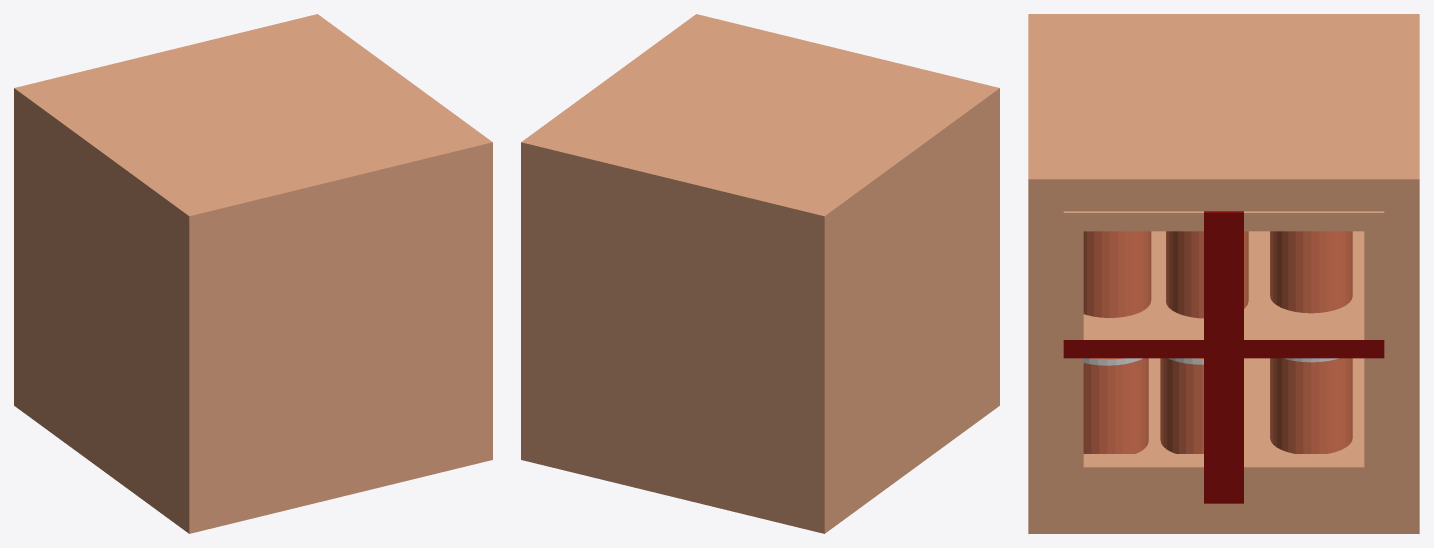
Rendered from Cabinet.fbx.
3 views of the same model, side by side, from view 1: azimuth 30°, elevation 25°; view 2: azimuth 150°, elevation 25°; view 3: azimuth 270°, elevation 25° (orthographic). The views are drawn at different scales.
Parts seen in each view (by area): view 1: Cube; view 2: Cube; view 3: Cube, Cylinder.003, Cylinder.002, Cylinder.005, Cylinder, Cylinder.004, Cylinder.001.
Boxes of the visible parts, bbox=[...] form: Cube: bbox=[14, 14, 492, 533]; Cube: bbox=[521, 14, 999, 533]; Cube: bbox=[1028, 14, 1419, 533]; Cylinder.003: bbox=[1270, 358, 1352, 453]; Cylinder.002: bbox=[1270, 231, 1352, 313]; Cylinder.005: bbox=[1083, 358, 1148, 453]; Cylinder: bbox=[1083, 231, 1151, 317]; Cylinder.004: bbox=[1160, 358, 1203, 453]; Cylinder.001: bbox=[1166, 231, 1248, 318].
Bounding box in the file's own units: 863 × 854 × 854.
